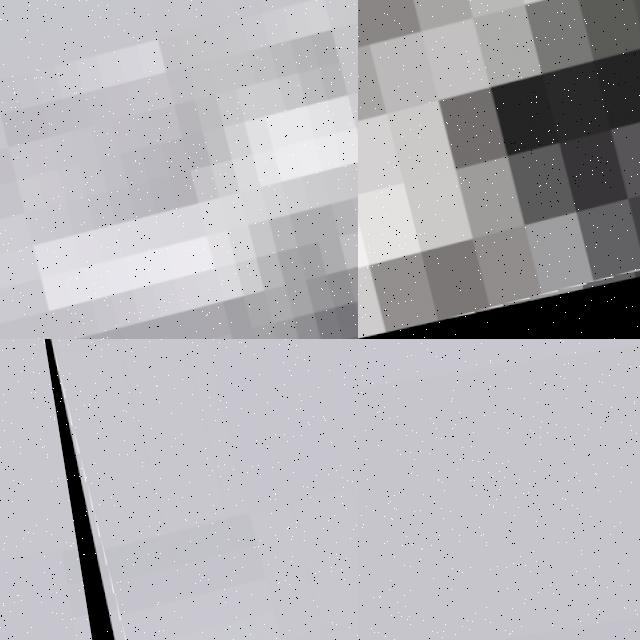drone: (0, 0, 358, 339), (24, 339, 358, 640), (358, 0, 640, 339)
